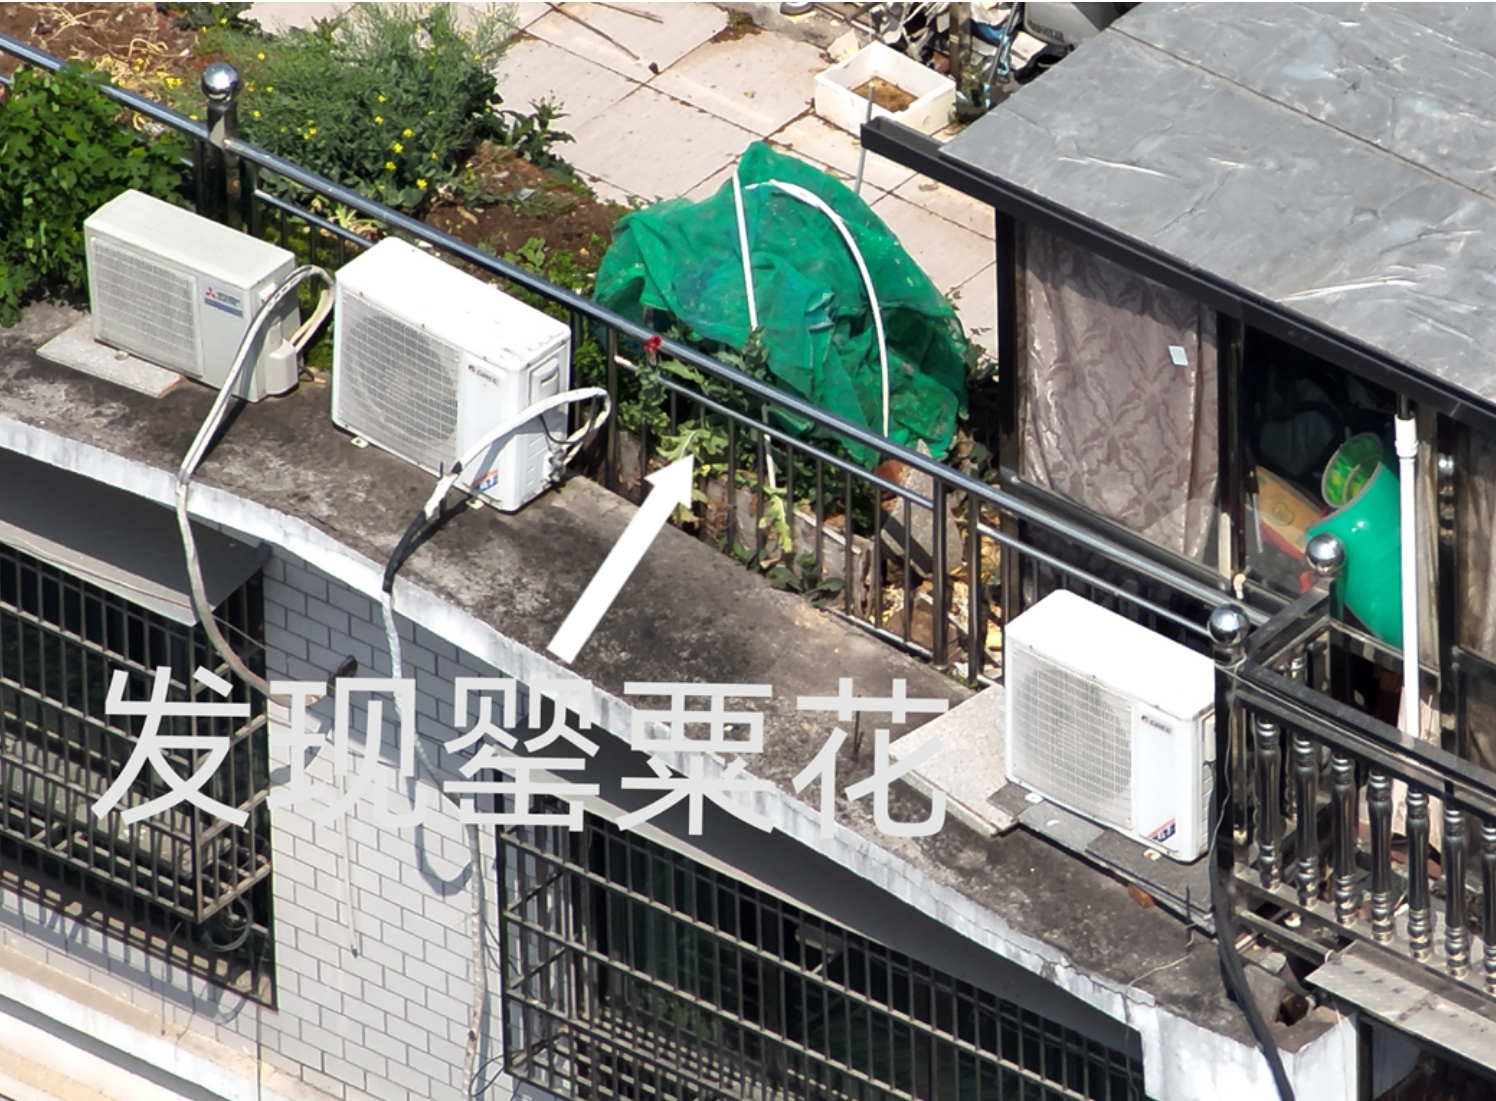Poppy: (616, 298, 807, 539)
